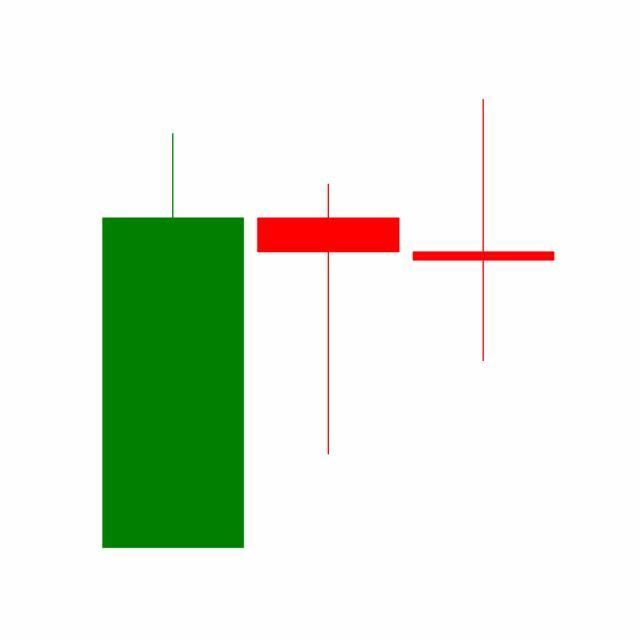Spinning Top: (406, 97, 562, 366)
